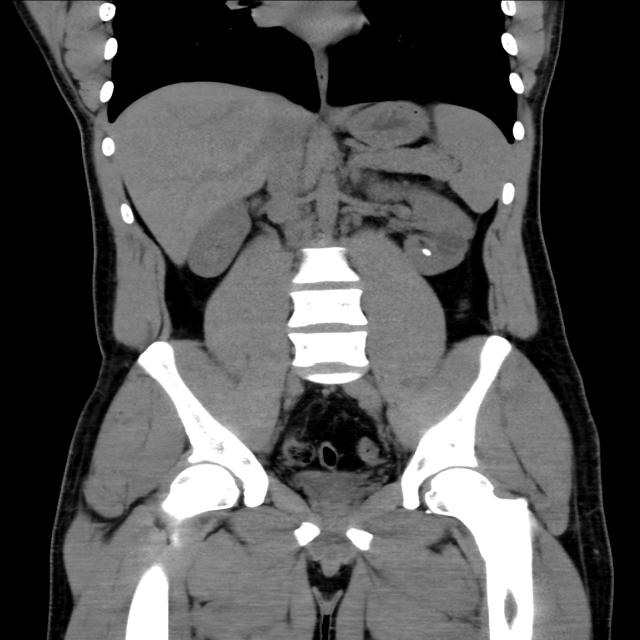kidneystone: (421, 248, 432, 256)
